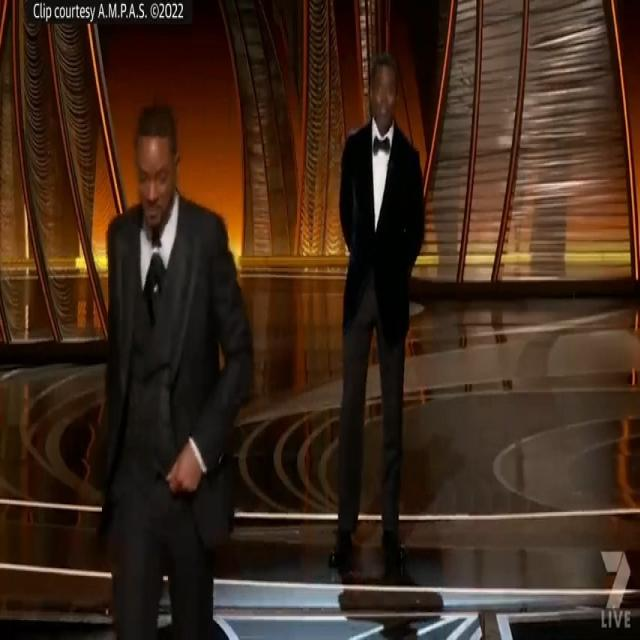non-fight: (96, 93, 254, 640), (329, 52, 426, 584)
